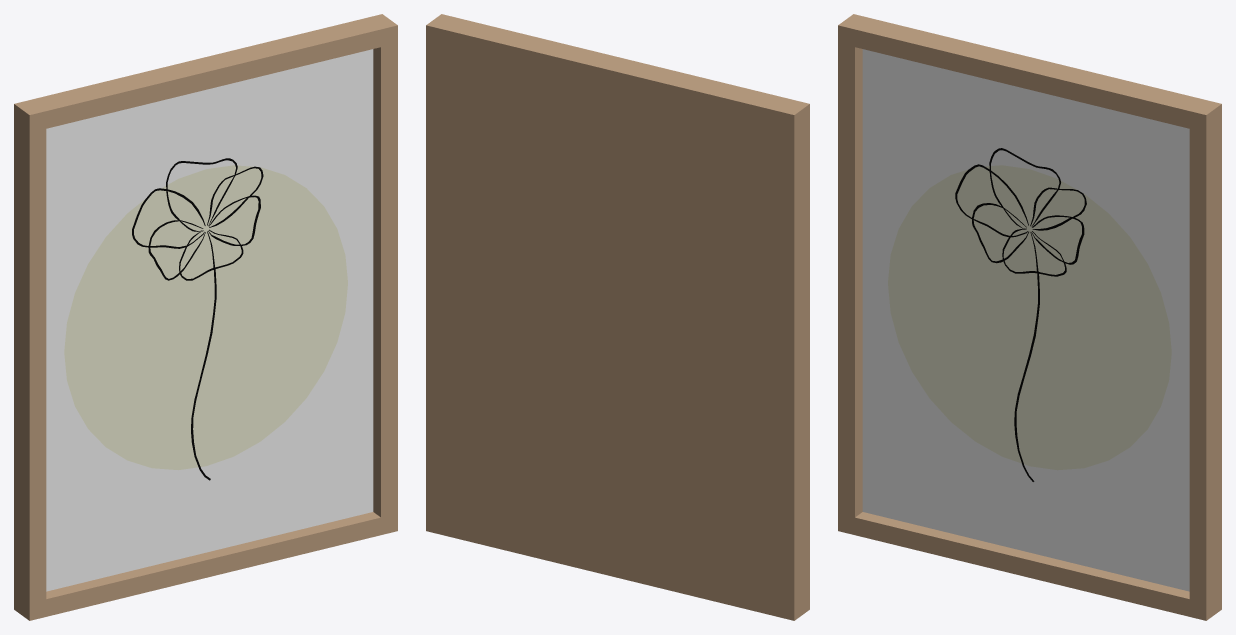
The model's file is bothel1.fbx.
3 views of the same model, side by side, from view 1: azimuth 30°, elevation 25°; view 2: azimuth 150°, elevation 25°; view 3: azimuth 330°, elevation 25° (orthographic).
Parts seen in each view (by area): view 1: Art5; view 2: Art5; view 3: Art5.
Boxes of the visible parts, left/top/right/bottom form: Art5: left=14, top=14, right=397, bottom=620; Art5: left=426, top=14, right=809, bottom=620; Art5: left=838, top=14, right=1221, bottom=620.
Size of the model in its own units: 13.93 by 1.02 by 18.28.
